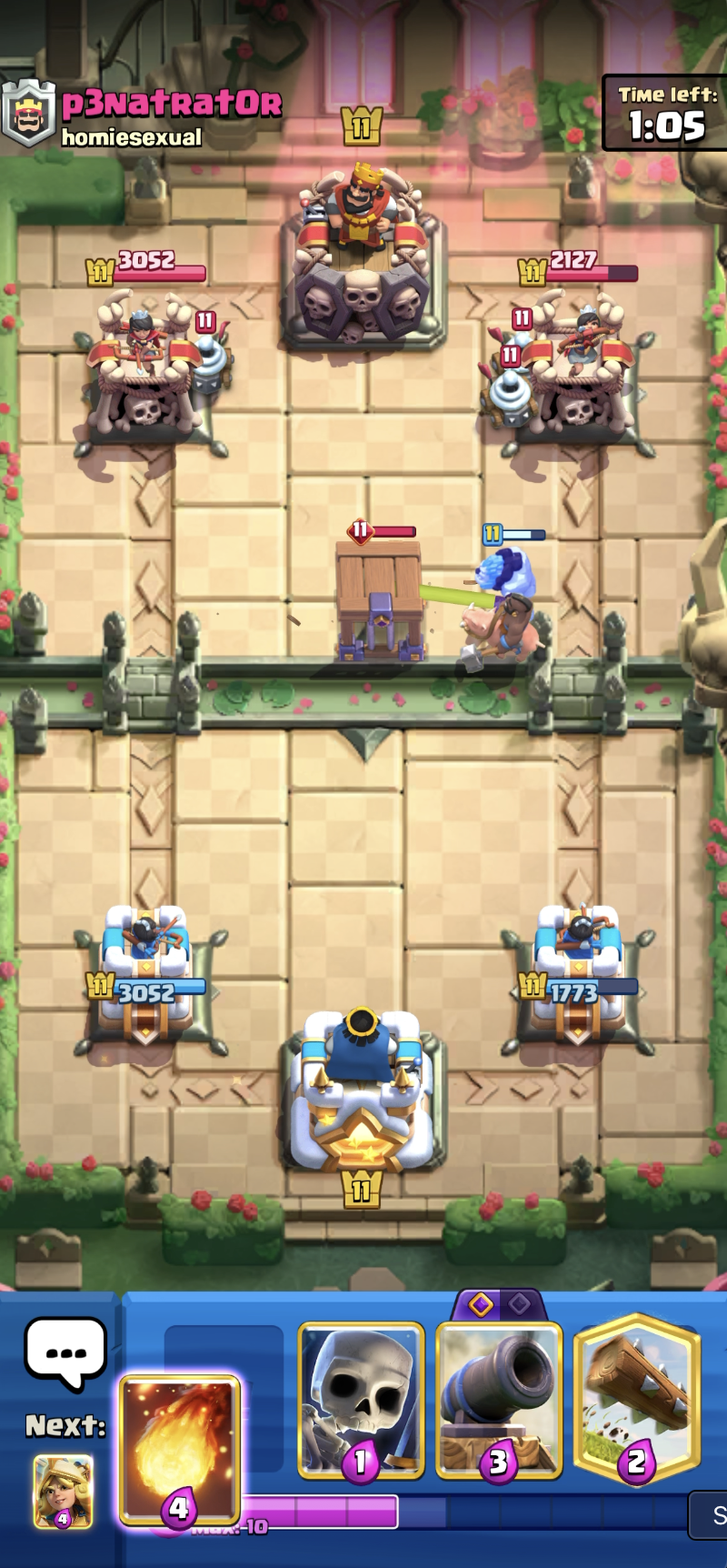evo-goblin-cage: (327, 515, 442, 660)
zappie: (475, 348, 538, 435), (189, 306, 239, 390), (488, 303, 537, 370)
